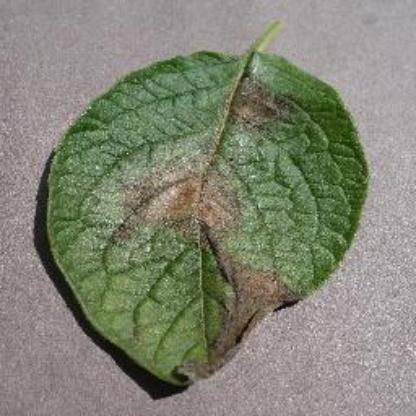Late-Blight: (21, 22, 367, 392)
